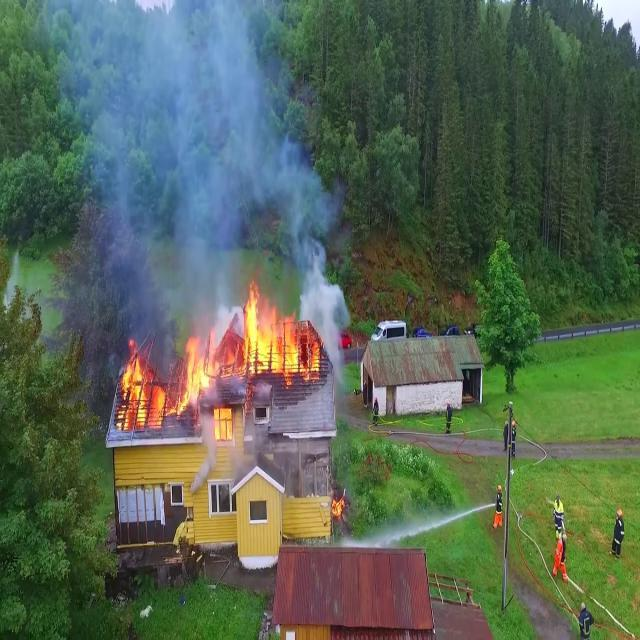Fire: (114, 331, 226, 432), (240, 283, 318, 385)
Smoke: (41, 0, 347, 332)
